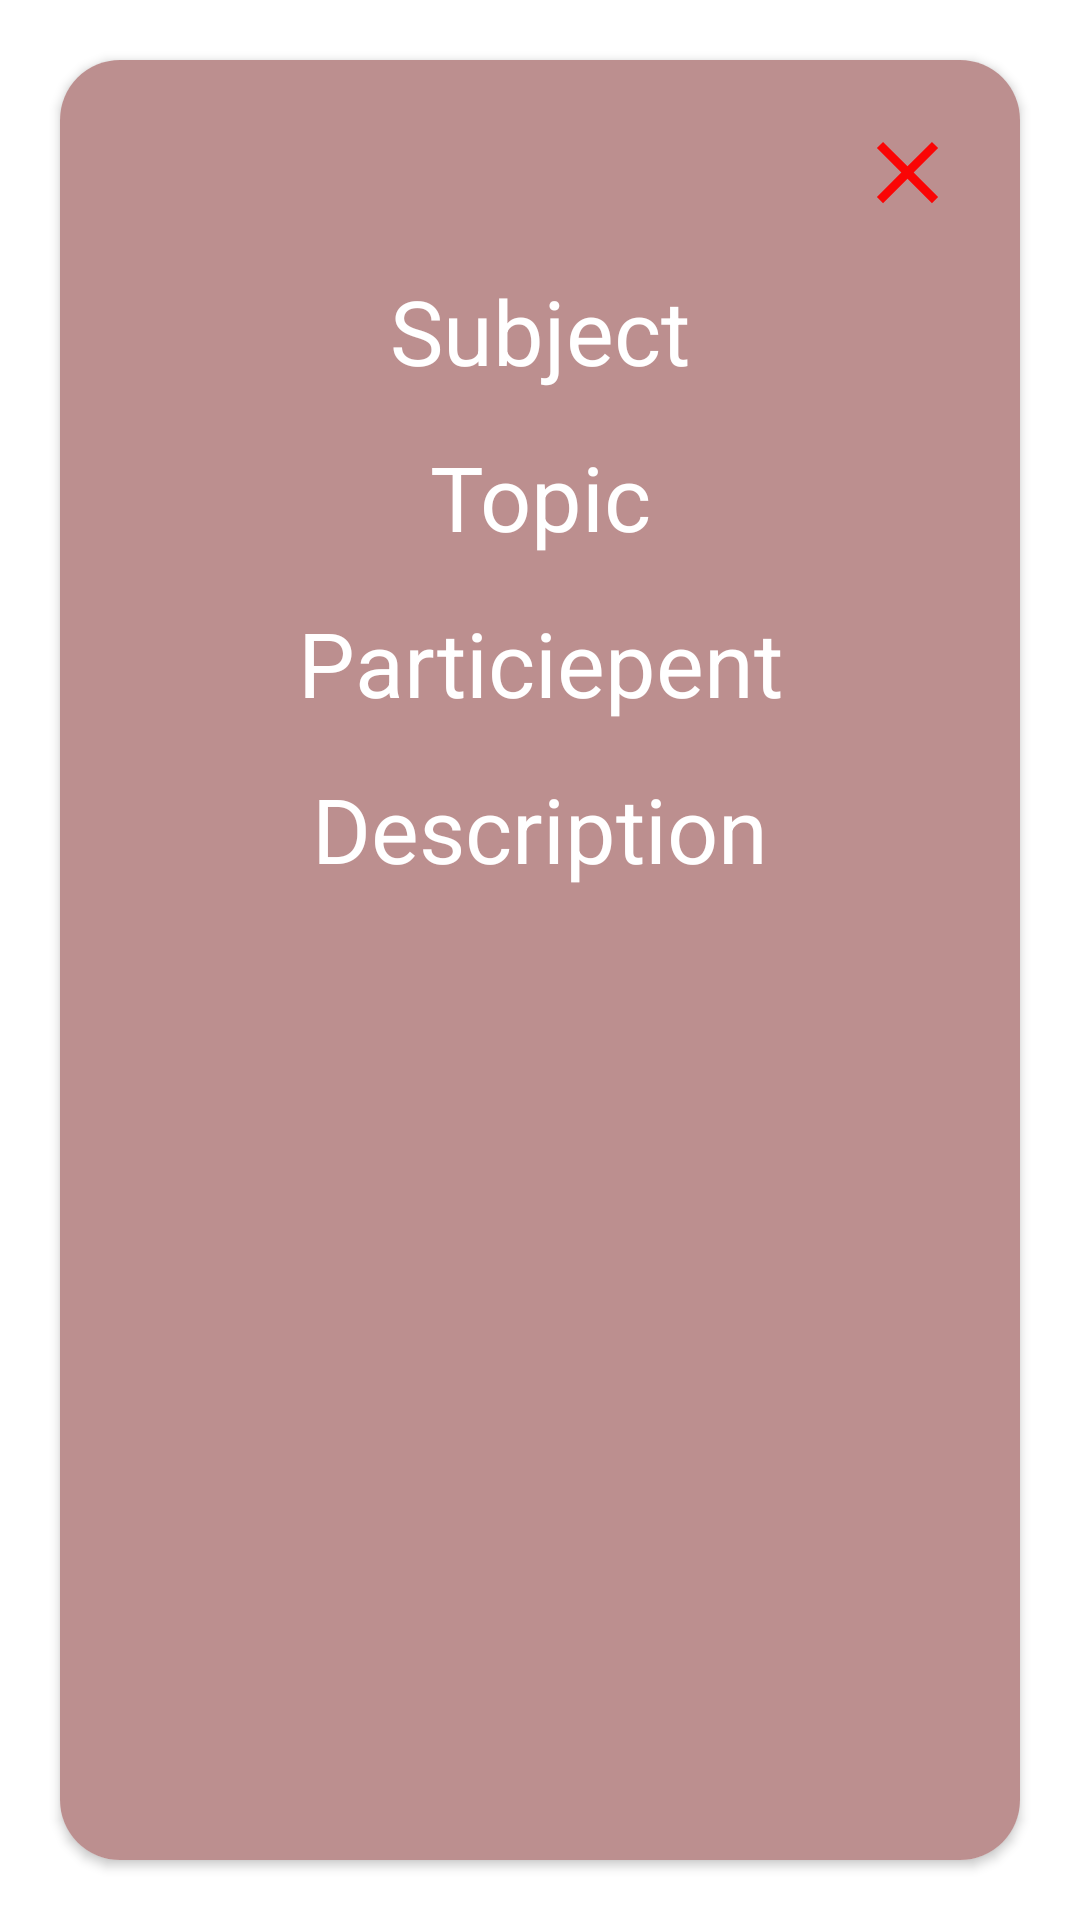

Where to tap for icons on this 1080px×1920px app screen, as (x,y):
close: (907,172)
